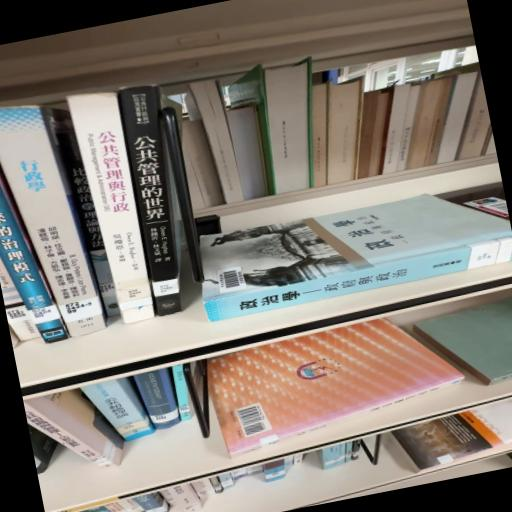flat: (200, 195, 512, 322), (209, 319, 465, 458)
